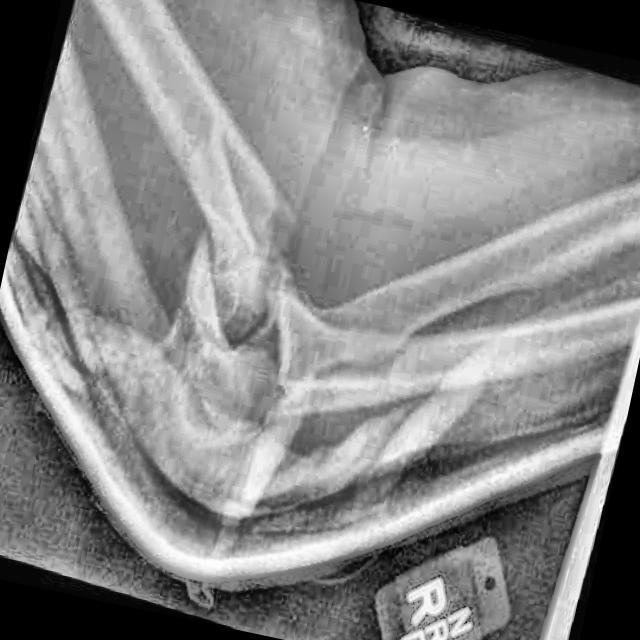elbow positive: (149, 85, 302, 305)
